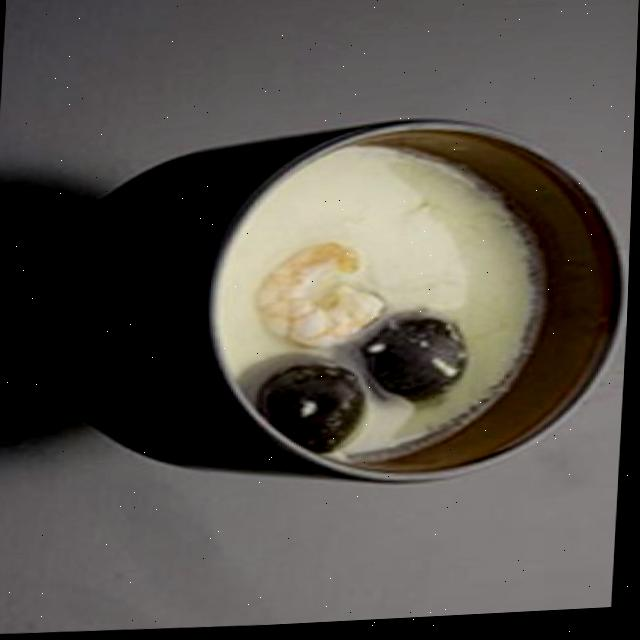鸡蛋料理: (0, 99, 636, 534)
